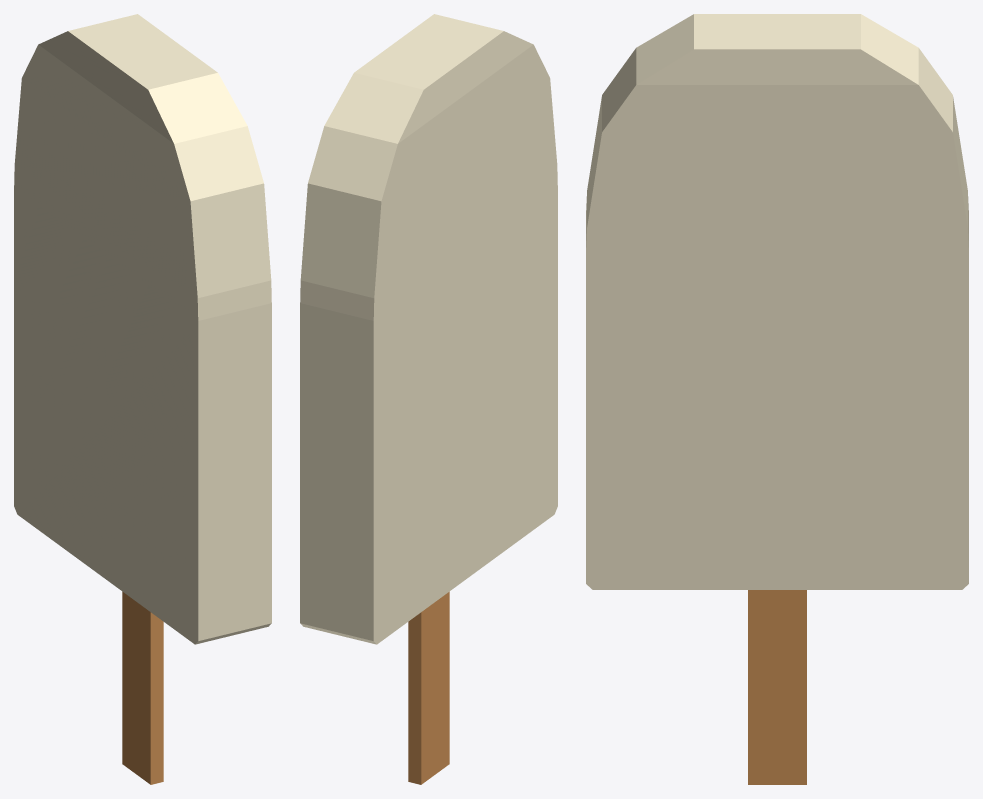
Rendered from ice_cream_01.fbx.
The picture shows the model from 3 angles, left to right: view 1: azimuth 30°, elevation 25°; view 2: azimuth 150°, elevation 25°; view 3: azimuth 270°, elevation 25°; orthographic projection. The views are drawn at different scales.
Visible parts, largest first — view 1: Cube.002; view 2: Cube.002; view 3: Cube.002.
Part boxes in pixels (x1,y1,x2,y2): Cube.002: (14,14,271,784); Cube.002: (300,14,557,784); Cube.002: (586,14,968,784).
Size of the model in its own units: 23.24 by 218 by 101.
